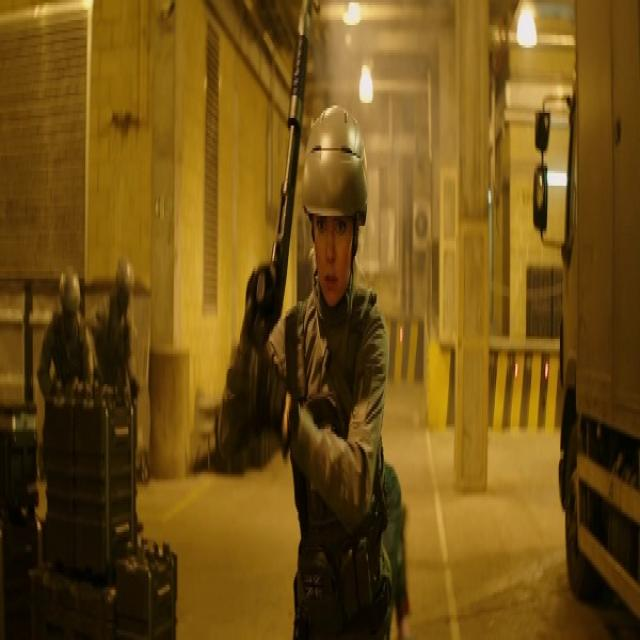rifle: (249, 1, 315, 344)
